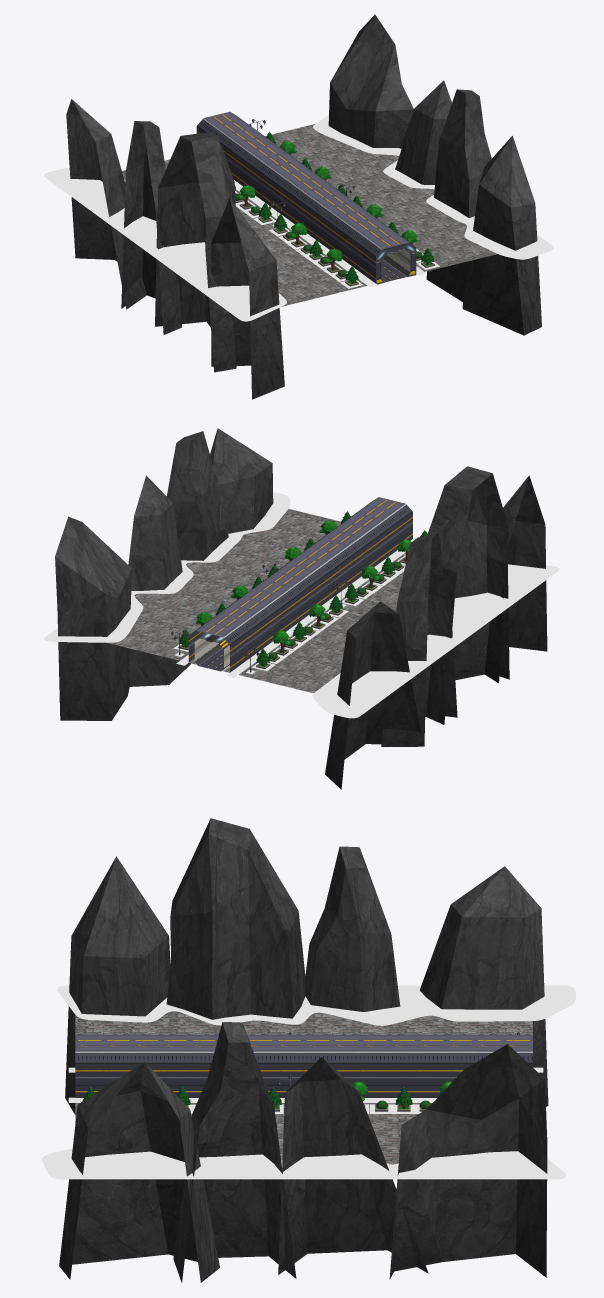
Rendered from City_19.fbx.
3 views of the same model, one above another, from view 1: azimuth 30°, elevation 25°; view 2: azimuth 150°, elevation 25°; view 3: azimuth 270°, elevation 25° (orthographic). The views are drawn at different scales.
Parts seen in each view (by area): view 1: City_19; view 2: City_19; view 3: City_19.
Part boxes in pixels (x1,y1,x2,y2): City_19: (44,14,553,399); City_19: (44,428,559,789); City_19: (42,818,575,1282).
Size of the model in its own units: 22617 by 13384 by 25170.
Materials: 9 (9 with a texture image).
